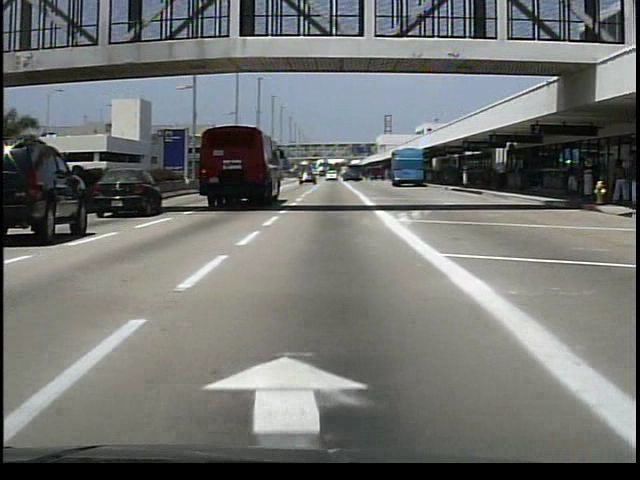person: (499, 161, 512, 192)
